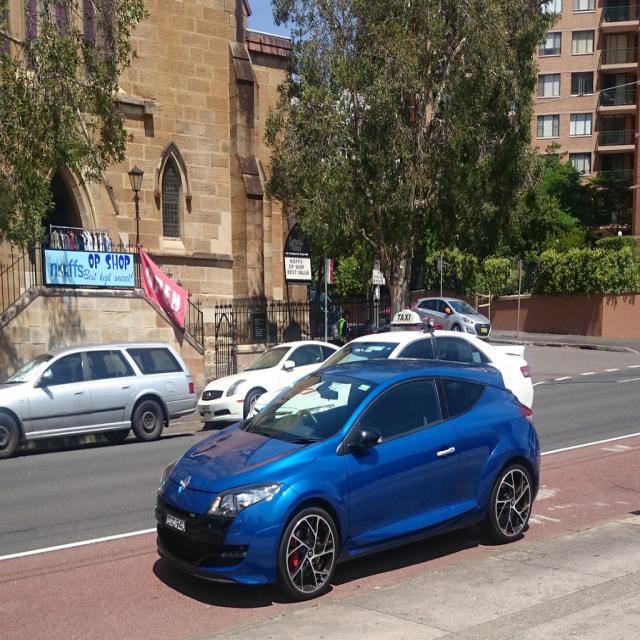car: (152, 358, 543, 598)
